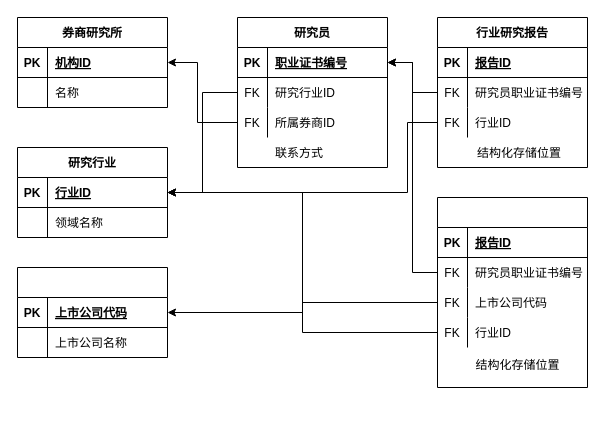
Image size: 615x435. Some labels were removed from this diagram. The box of each missing label's shape, as (x1, y1, x2, y2) in pixels:
上市公司信息: (16, 266, 168, 358)
公司研究报告: (436, 196, 588, 388)
